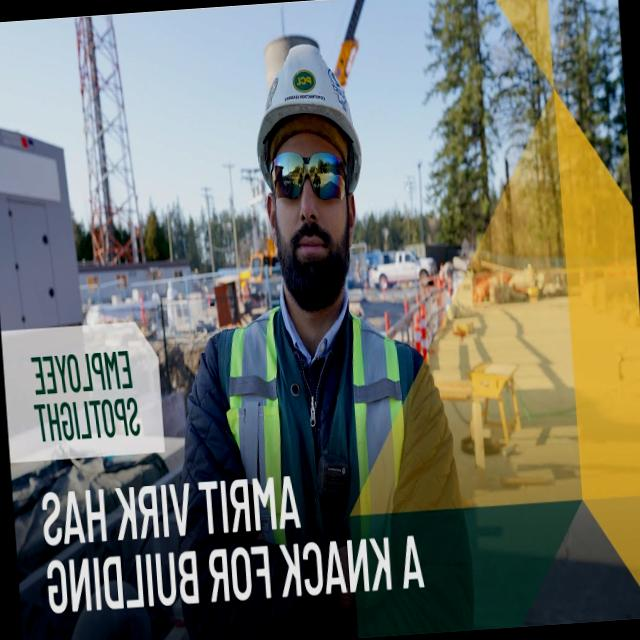goggles: (262, 144, 356, 212)
helmet: (248, 33, 370, 158)
vest: (198, 282, 430, 640)
